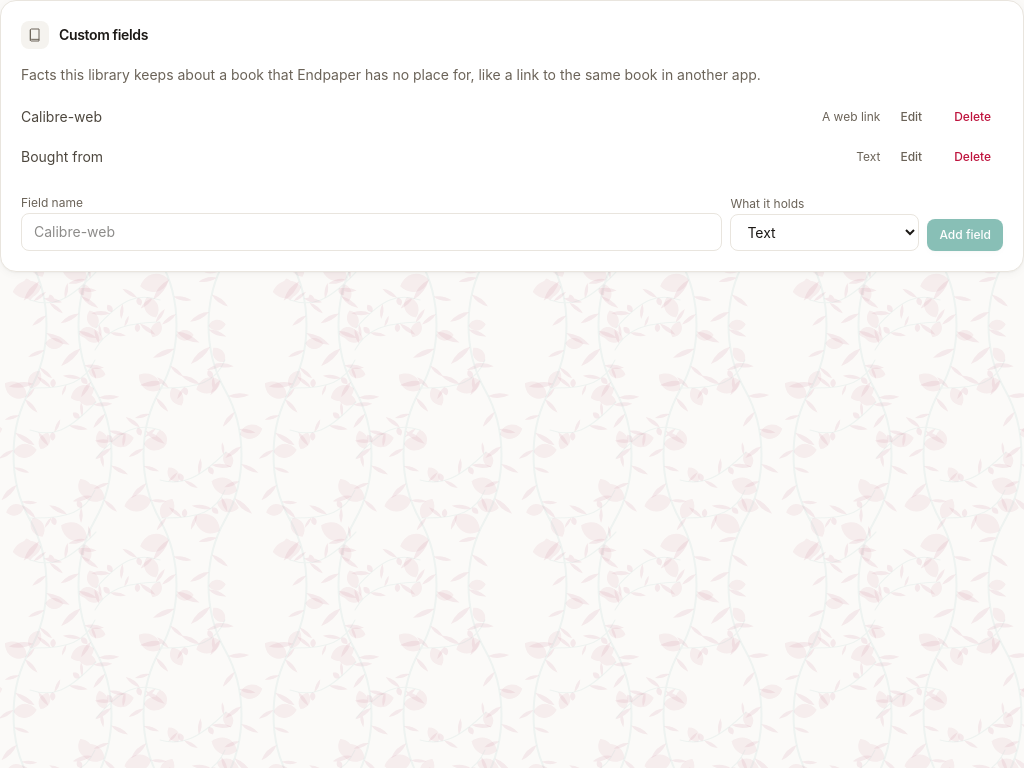
Scenario: CustomFieldsSection › drops a refusal when the rename is given up on
Click the button "Edit" next to "A web link" at (911,117), box [888,101,934,133]
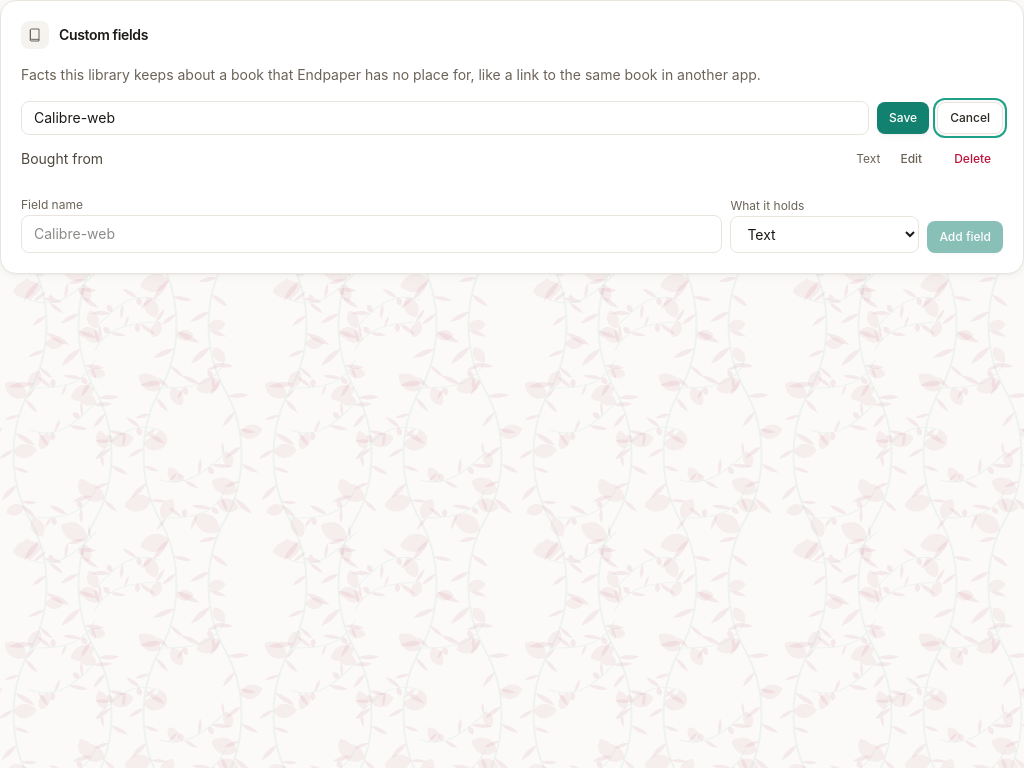
Replace the text in the field named "New name for Calibre-web" with "Ebook" at (445,118), box [21,101,869,135]
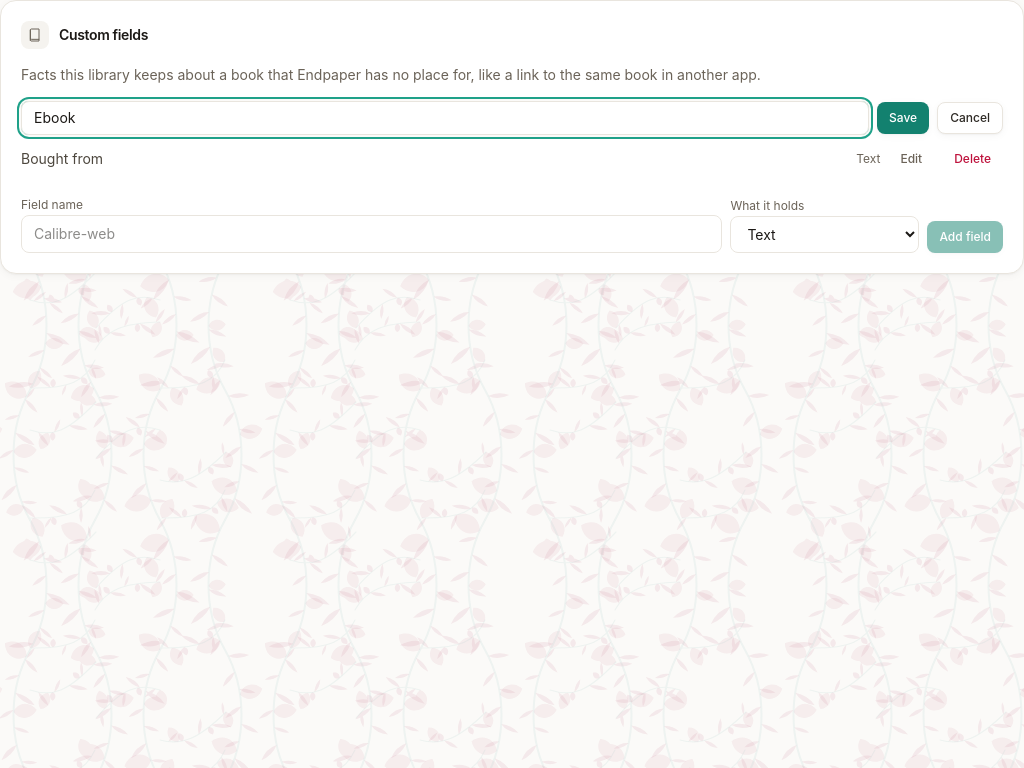
Click the button "Save" at (903,118), box [877,102,929,134]
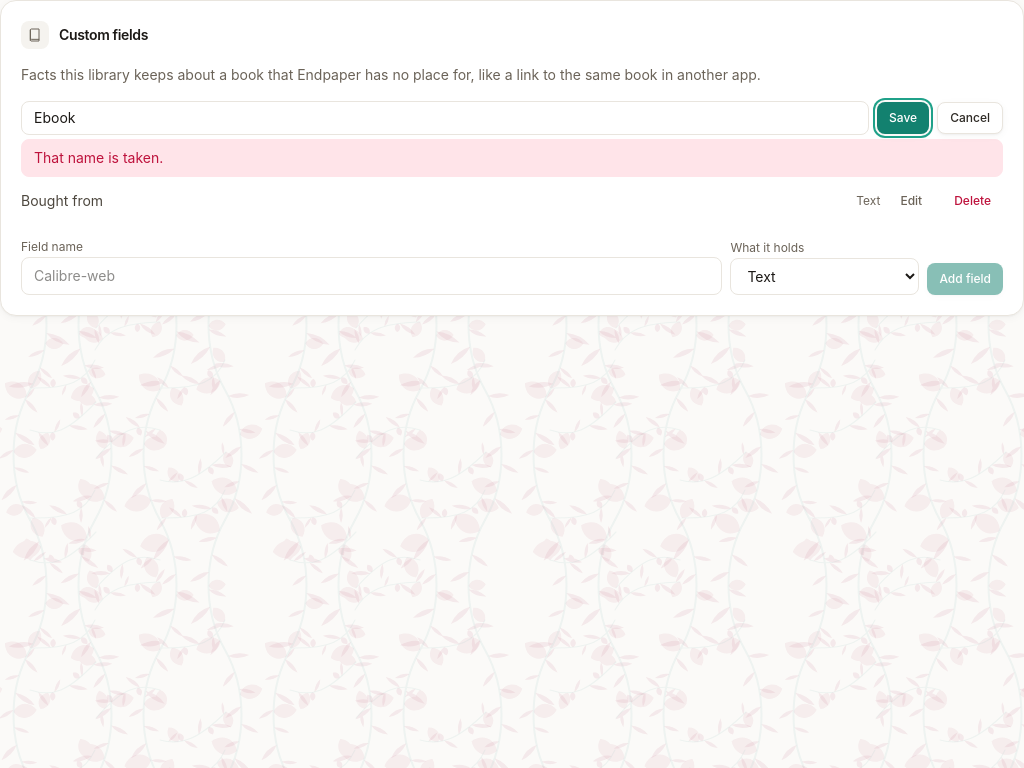
Click the button "Cancel" at (970,118), box [937,102,1003,134]
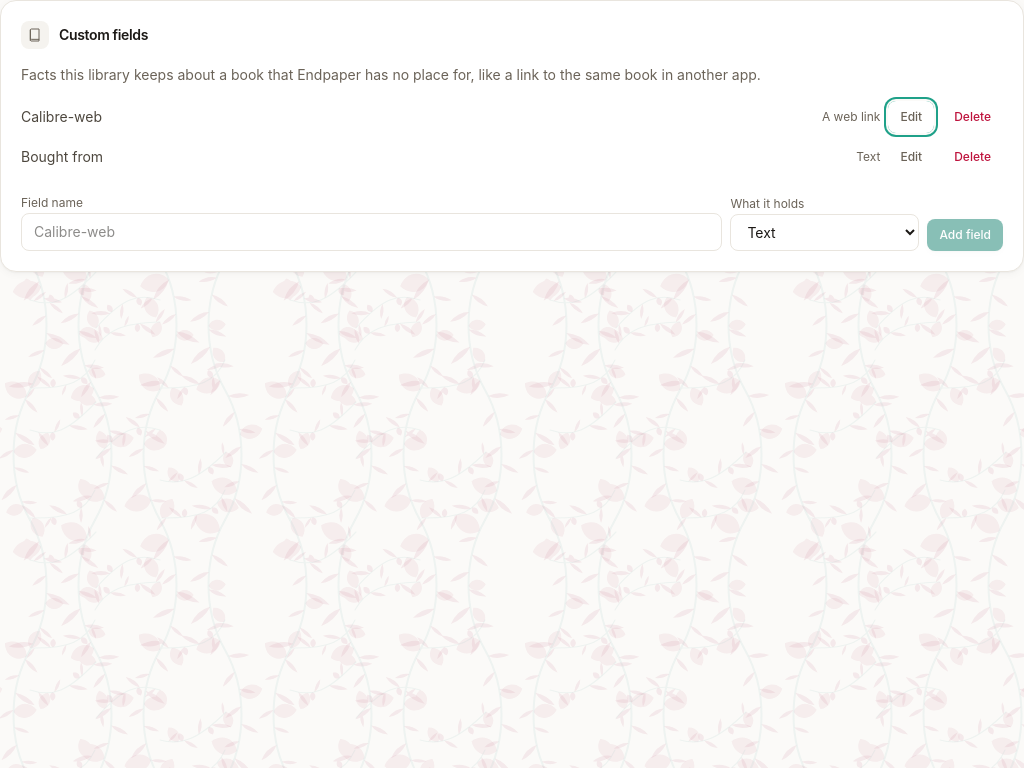
Now the text "That name is taken." is gone
